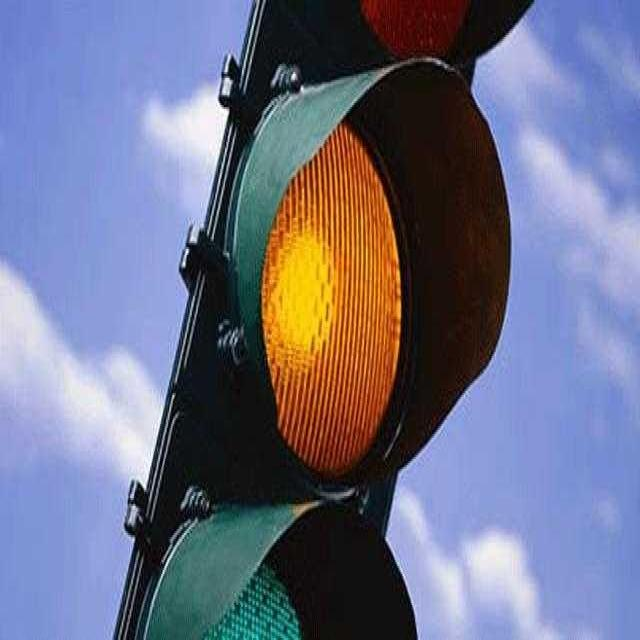Traffic Light -Yellow-: (228, 17, 538, 605)
